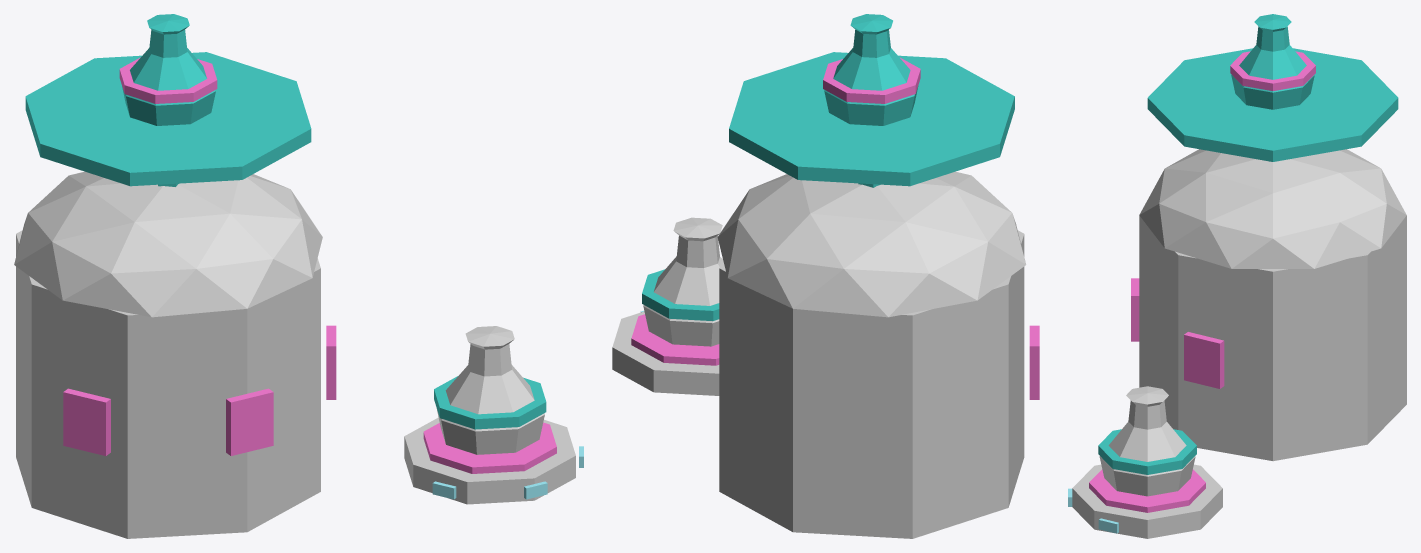
File: lab-landmark-s2c.glb
The picture shows the model from 3 angles, left to right: view 1: azimuth 30°, elevation 25°; view 2: azimuth 150°, elevation 25°; view 3: azimuth 270°, elevation 25°; orthographic projection. The views are drawn at different scales.
Parts seen in each view (by area): view 1: lab-landmark-s2c; view 2: lab-landmark-s2c; view 3: lab-landmark-s2c.
Part boxes in pixels (x1=…): lab-landmark-s2c: x1=14, y1=14, x2=583, y2=538; lab-landmark-s2c: x1=612, y1=14, x2=1039, y2=538; lab-landmark-s2c: x1=1068, y1=14, x2=1406, y2=538.
Bounding box in the file's own units: 1.08 × 1.01 × 0.81.
